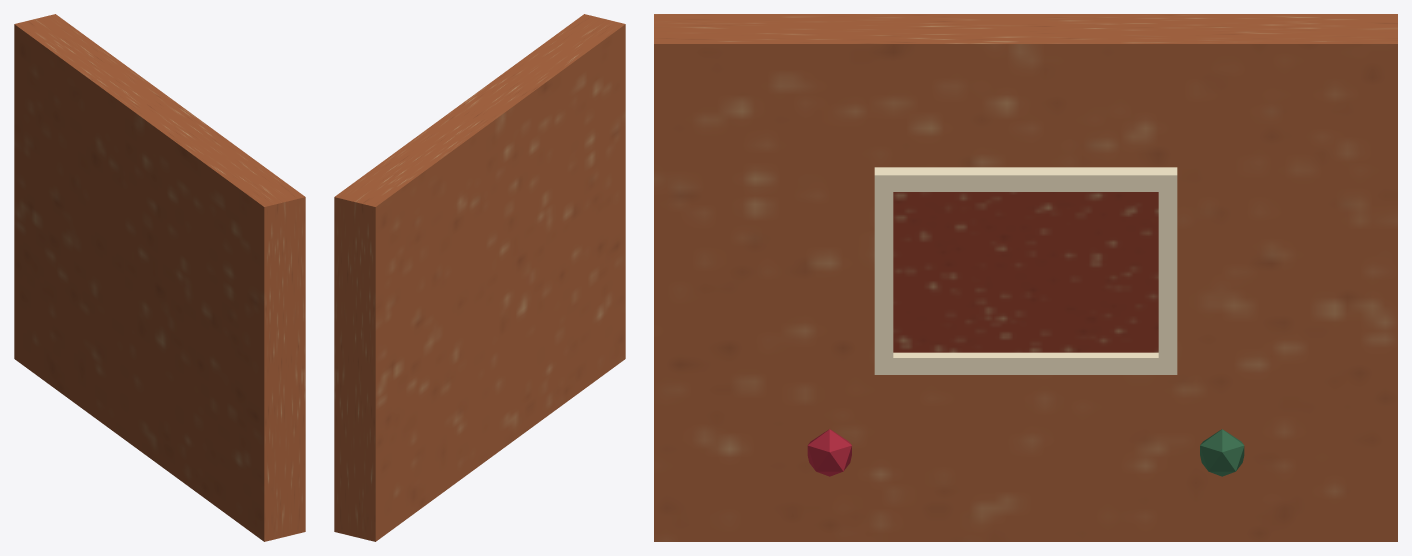
Rendered from gingerbread_house_piece_side_right.glb.
3 views of the same model, side by side, from view 1: azimuth 30°, elevation 25°; view 2: azimuth 150°, elevation 25°; view 3: azimuth 270°, elevation 25° (orthographic). The views are drawn at different scales.
Parts seen in each view (by area): view 1: side_right; view 2: side_right; view 3: side_right.
Boxes of the visible parts, x1,y1,x2,y2 form: side_right: (14,14,305,541); side_right: (334,14,625,541); side_right: (654,14,1397,541).
Bounding box in the file's own units: 0.027 × 0.147 × 0.199.
5 materials, 2 textured.
